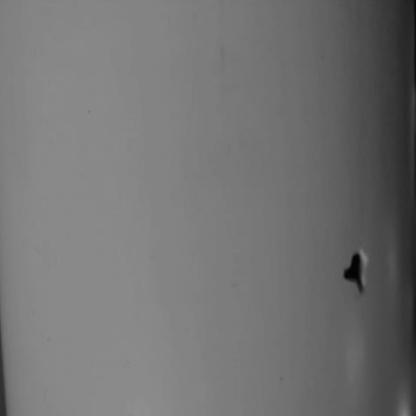kongdong: (341, 244, 386, 292)
